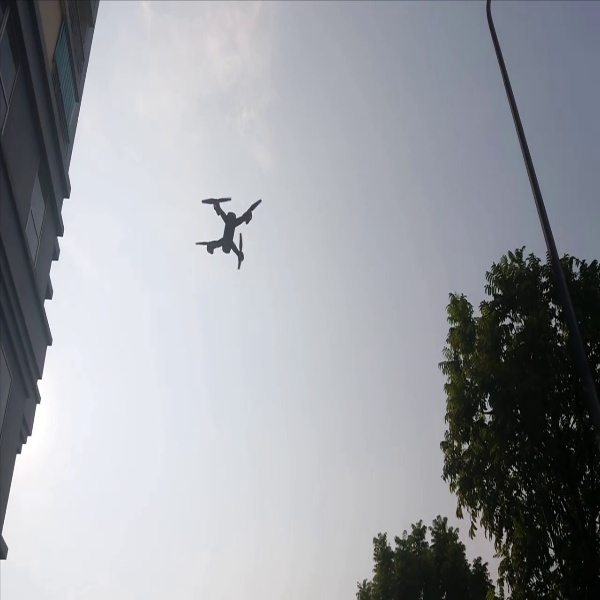drone: (196, 185, 263, 275)
